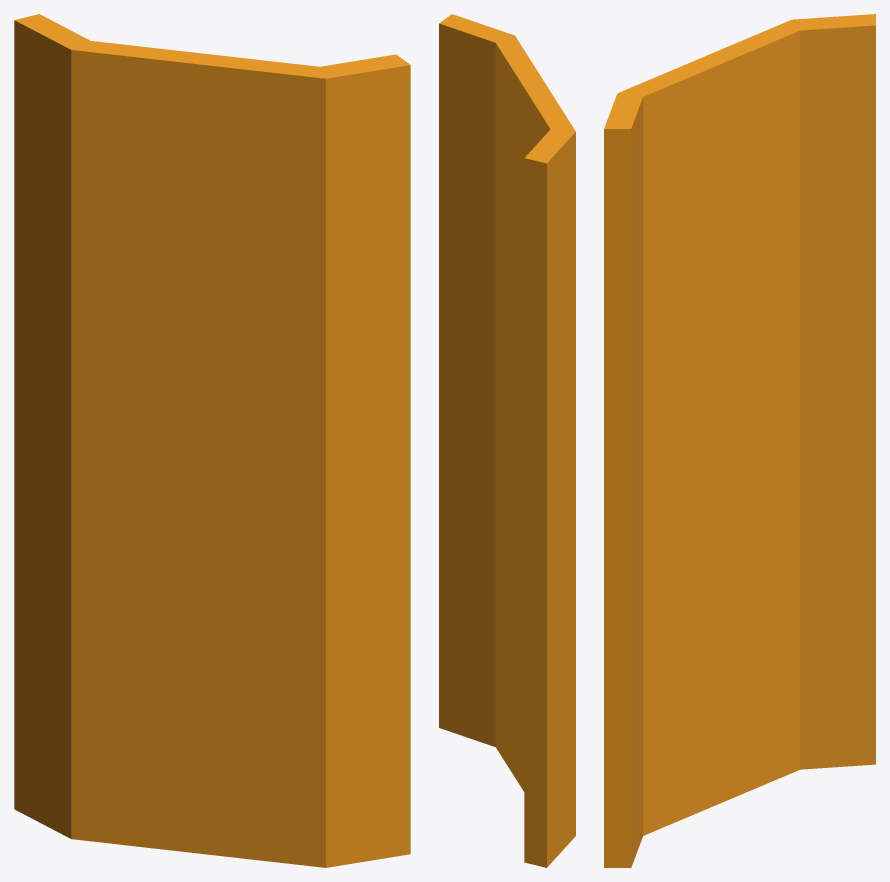
The model's file is SM_Buildings_WallChamfered_1x1_01.fbx.
The picture shows the model from 3 angles, left to right: view 1: azimuth 30°, elevation 25°; view 2: azimuth 150°, elevation 25°; view 3: azimuth 270°, elevation 25°; orthographic projection. The views are drawn at different scales.
Parts seen in each view (by area): view 1: SM_Buildings_WallChamfered_1x1_01; view 2: SM_Buildings_WallChamfered_1x1_01; view 3: SM_Buildings_WallChamfered_1x1_01.
Boxes of the visible parts, bbox=[...] form: SM_Buildings_WallChamfered_1x1_01: bbox=[14, 14, 410, 867]; SM_Buildings_WallChamfered_1x1_01: bbox=[439, 14, 575, 867]; SM_Buildings_WallChamfered_1x1_01: bbox=[604, 14, 875, 867].
Size of the model in its own units: 100 by 300 by 100.
